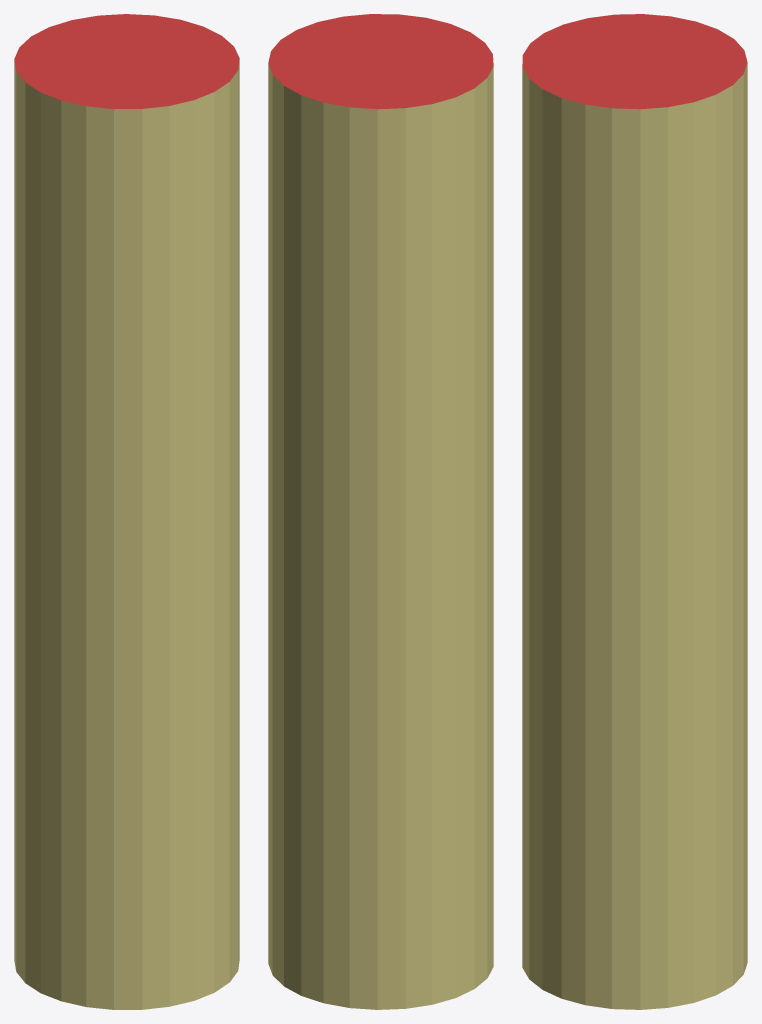
The picture shows the model from 3 angles, left to right: view 1: azimuth 30°, elevation 25°; view 2: azimuth 150°, elevation 25°; view 3: azimuth 270°, elevation 25°; orthographic projection.
Bounding box in the file's own units: 3.45 × 3.45 × 15.22.
